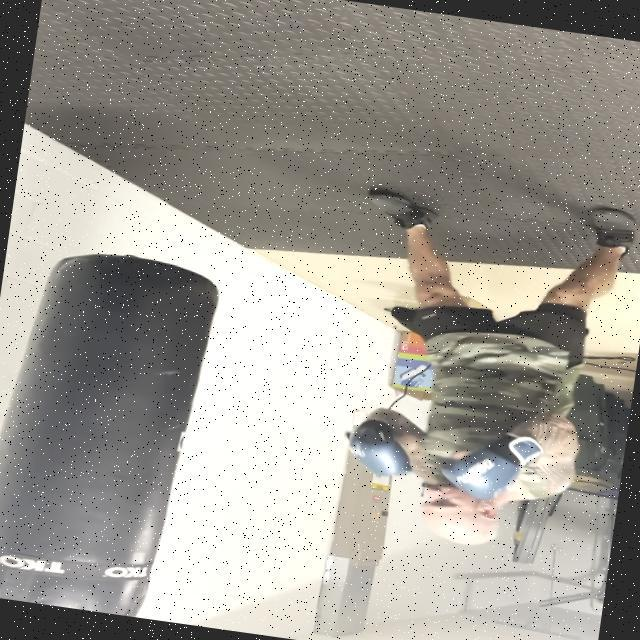bag: (0, 258, 196, 619)
no punch: (335, 382, 582, 560)
